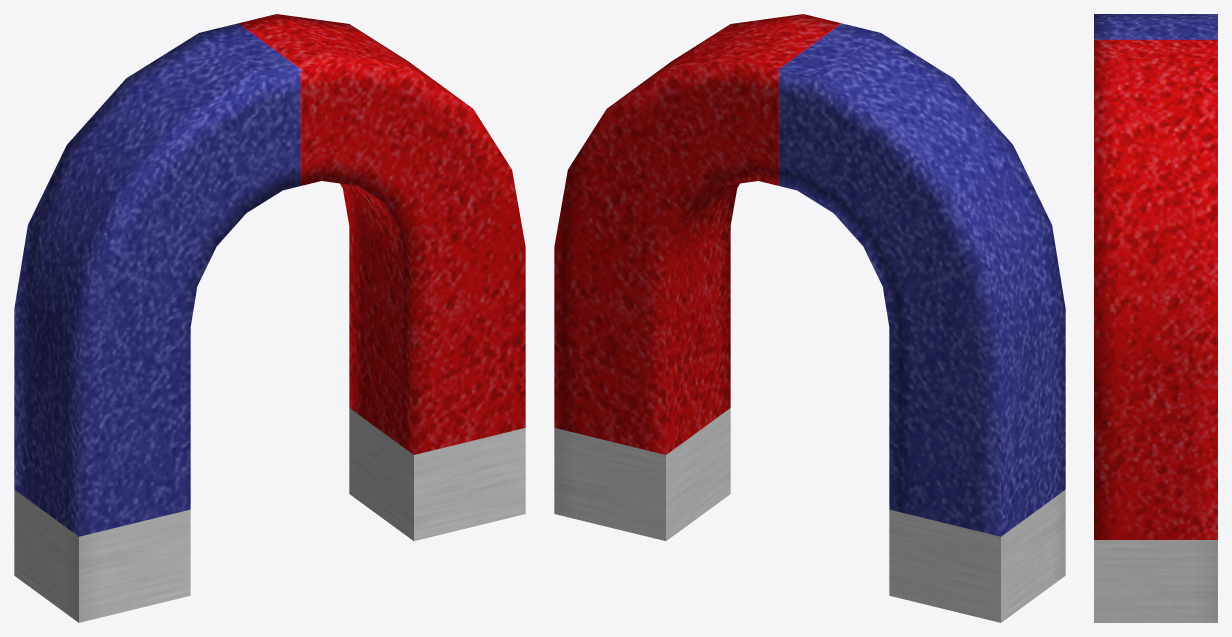
3 renders of one model, left to right at view 1: azimuth 30°, elevation 25°; view 2: azimuth 150°, elevation 25°; view 3: azimuth 270°, elevation 25°, orthographic. The views are drawn at different scales.
Visible parts, largest first — view 1: smMAT0110009; view 2: smMAT0110009; view 3: smMAT0110009.
Boxes of the visible parts, x1,y1,x2,y2 form: smMAT0110009: [14, 14, 525, 622]; smMAT0110009: [554, 14, 1065, 622]; smMAT0110009: [1094, 14, 1217, 622].
Bounding box in the file's own units: 13.11 × 13.97 × 3.28.
Materials: 1 (1 with a texture image).
